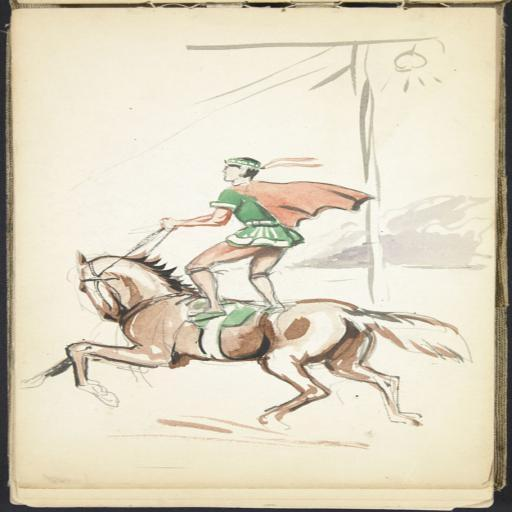horse: (17, 247, 475, 428)
